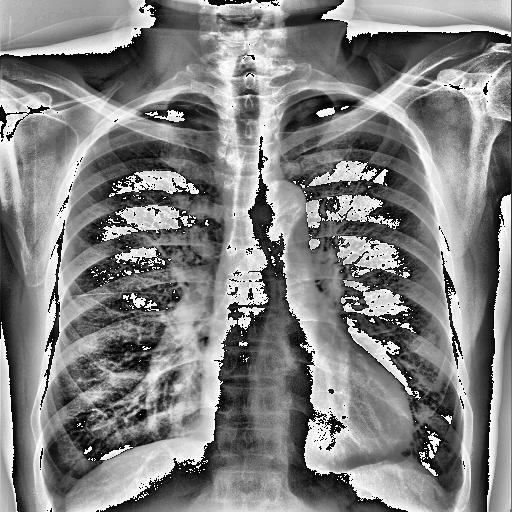10- Pleural effusion: (32, 478, 82, 507), (427, 474, 466, 508), (34, 484, 78, 508), (438, 482, 467, 508), (436, 481, 469, 498)
11- Pleural thickening: (32, 478, 82, 507), (427, 474, 466, 508), (34, 484, 78, 508), (438, 482, 467, 508), (436, 481, 469, 498)
9- Other lesion: (311, 444, 398, 471)
